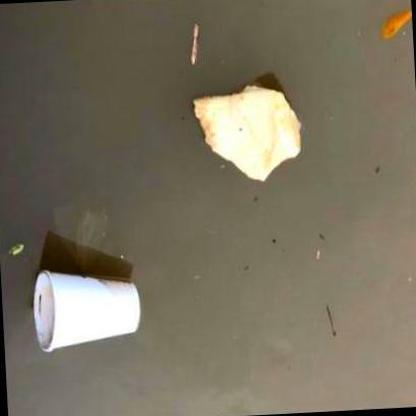foam: (192, 84, 304, 183)
